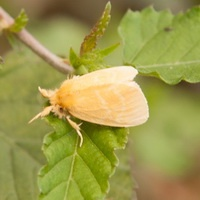insect: (29, 66, 148, 145)
